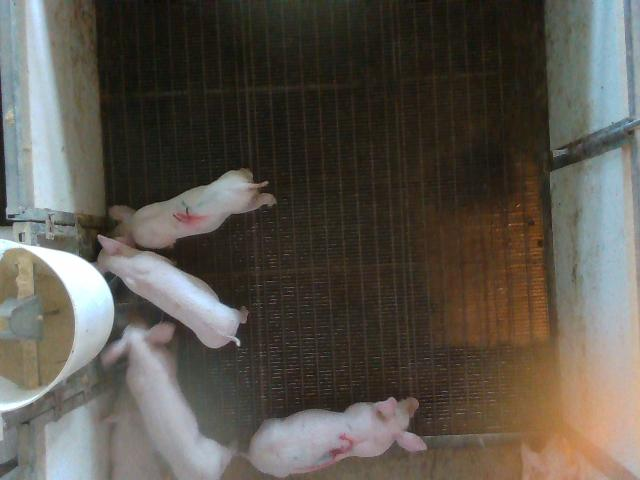pig-3: (222, 398, 426, 478)
pig-4: (109, 169, 276, 248)
